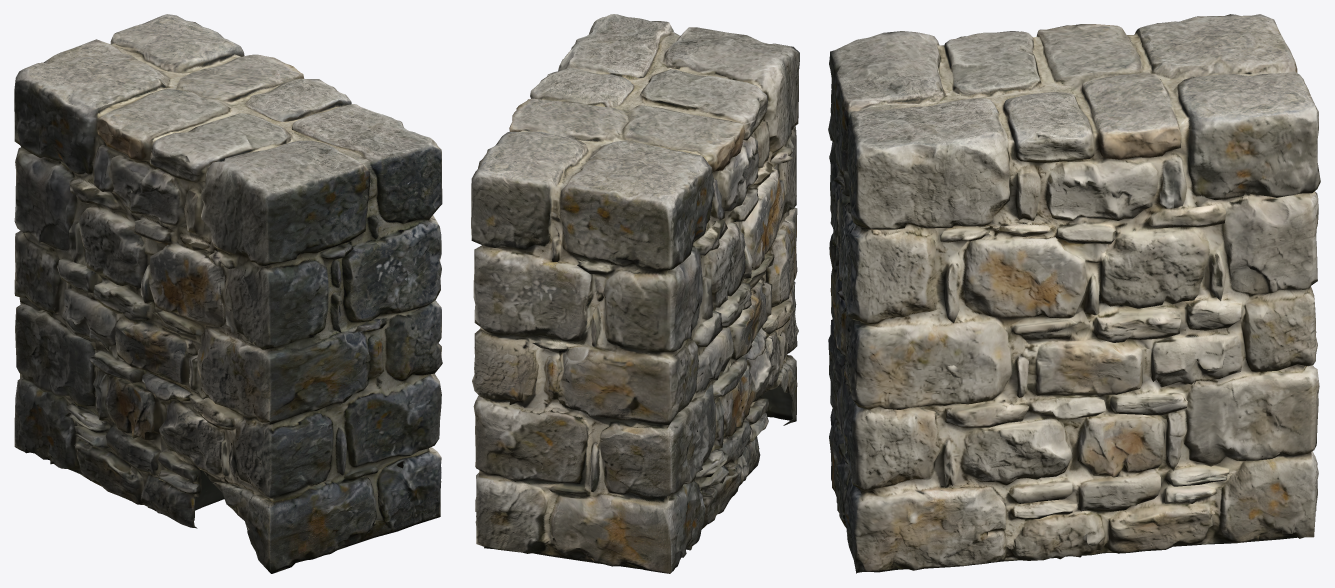
3 views of the same model, side by side, from view 1: azimuth 30°, elevation 25°; view 2: azimuth 150°, elevation 25°; view 3: azimuth 270°, elevation 25° (orthographic). The views are drawn at different scales.
Visible parts, largest first — view 1: tripo_node_d62415f3-878d-48cc-a0bc-42d44e3ea856; view 2: tripo_node_d62415f3-878d-48cc-a0bc-42d44e3ea856; view 3: tripo_node_d62415f3-878d-48cc-a0bc-42d44e3ea856.
Part boxes in pixels (<box>): tripo_node_d62415f3-878d-48cc-a0bc-42d44e3ea856: <box>14,14,442,573</box>; tripo_node_d62415f3-878d-48cc-a0bc-42d44e3ea856: <box>471,14,799,573</box>; tripo_node_d62415f3-878d-48cc-a0bc-42d44e3ea856: <box>828,14,1320,573</box>.
Size of the model in its own units: 0.662 by 0.972 by 0.9807.
1 material, 1 textured.
